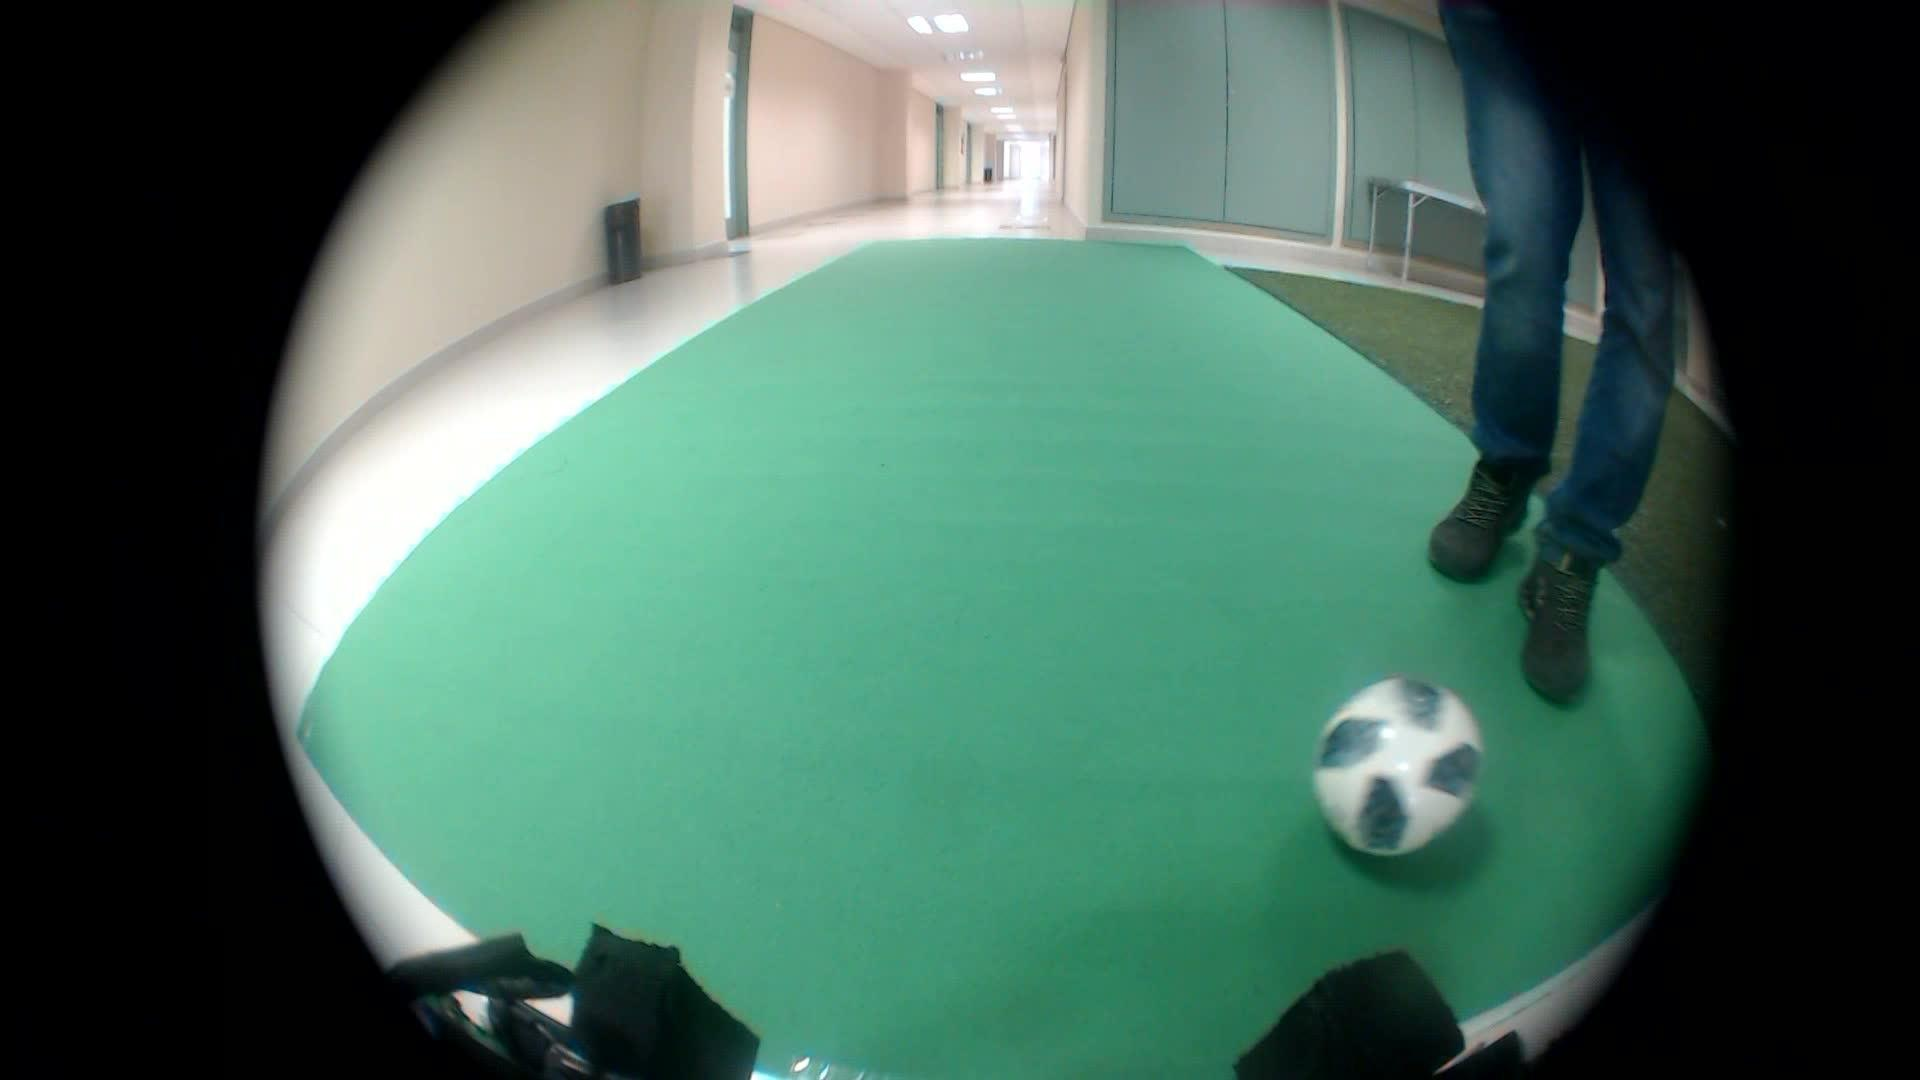ball: (1294, 666, 1503, 881)
